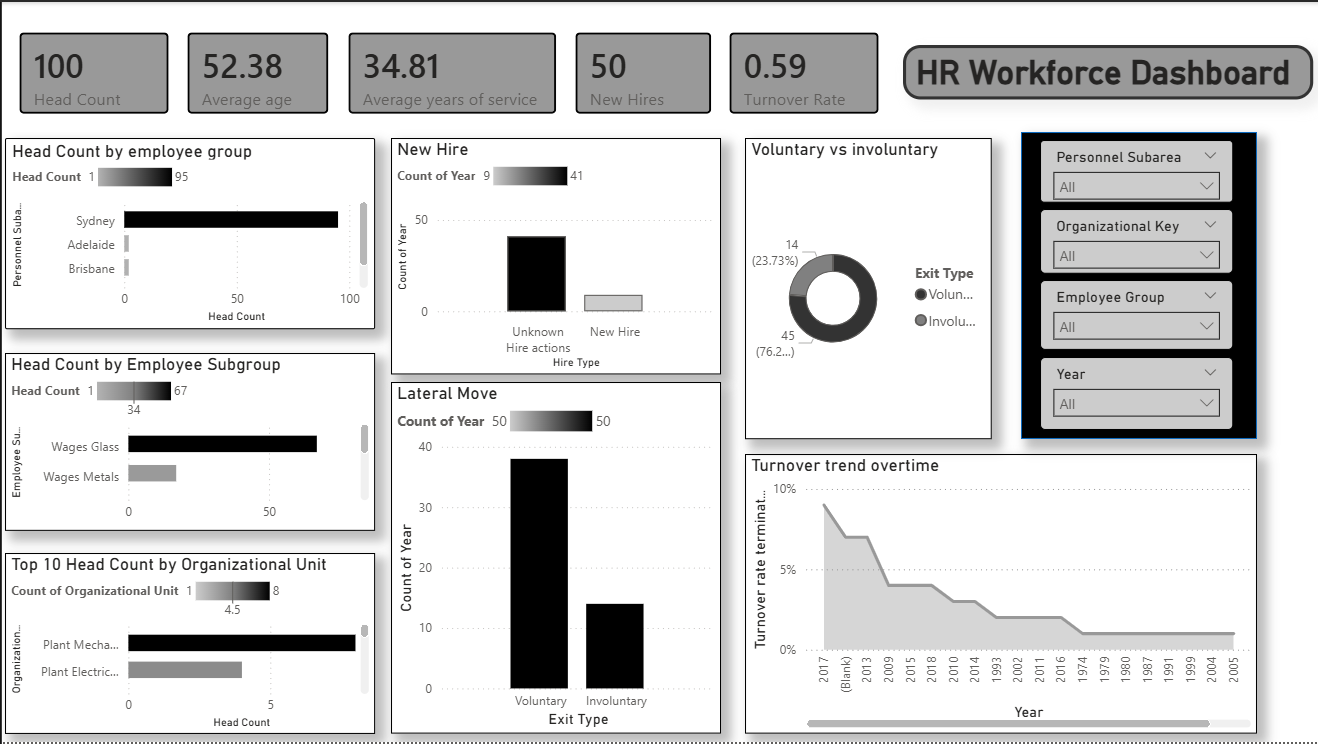

What the dashboard file says about the page in this screenshot:
{"tool":"powerbi","page":{"name":"Page 1","canvas":[1280,720],"ordinal":0},"visuals":[{"type":"lineChart","title":"Turnover trend overtime","fields":{"Category":["Terminations.Year"],"Y":["Terminations.Turnover rate termination"]},"box":[722.7,439.6,498,272.3],"z":500},{"type":"cardVisual","fields":{"Data":["Headcount.Average years of service"]},"box":[320,12.6,236.4,113.8],"z":1000},{"type":"shape","box":[991.1,126.4,229.5,298.6],"z":1500},{"type":"cardVisual","fields":{"Data":["Headcount.Average age"]},"box":[163.4,12.6,171.2,113.8],"z":2000},{"type":"cardVisual","fields":{"Data":["Headcount.New Hires"]},"box":[540.8,12.6,166.3,113.8],"z":3000},{"type":"cardVisual","fields":{"Data":["Headcount.Turnover Rate"]},"box":[690.6,12.6,179.9,113.8],"z":4000},{"type":"clusteredBarChart","title":"Head Count by employee group","fields":{"Y":["Headcount.Head Count"],"Category":["Headcount.Personnel Subarea"]},"box":[2.9,132.3,359.9,185.8],"z":5000},{"type":"clusteredBarChart","fields":{"Y":["Headcount.Head Count"],"Category":["Headcount.Employee Subgroup"]},"box":[2.9,341.4,359.9,173.1],"z":6000},{"type":"clusteredBarChart","title":"Top 10 Head Count by Organizational Unit","fields":{"Category":["Headcount.Organizational Unit"],"Y":["Headcount.Head Count"]},"box":[2.9,535.9,359.9,176],"z":7000},{"type":"slicer","fields":{"Values":["New Hires & Transfers.Personnel Subarea"]},"box":[1009.6,134.2,187.7,61.3],"z":8000},{"type":"columnChart","title":"New Hire","fields":{"Y":["CountNonNull(New Hires & Transfers.Year)"],"Category":["New Hires & Transfers.Hire Type"]},"box":[378.4,132.3,321,229.5],"z":9000},{"type":"slicer","fields":{"Values":["New Hires & Transfers.Organizational Key"]},"box":[1009.6,201.3,187.7,63.2],"z":10000},{"type":"columnChart","title":"Lateral Move","fields":{"Category":["Terminations.Exit Type"],"Y":["CountNonNull(Terminations.Year)"]},"box":[378.4,369.6,321,342.4],"z":11000},{"type":"donutChart","title":"Voluntary vs involuntary","fields":{"Y":["Headcount.Terminations Count"],"Category":["Terminations.Exit Type"]},"box":[722.7,132.3,240.2,292.8],"z":12000},{"type":"slicer","fields":{"Values":["New Hires & Transfers.Employee Group"]},"box":[1009.6,270.4,187.7,68.1],"z":15000},{"type":"slicer","fields":{"Values":["Terminations.Year"]},"box":[1009.6,345.3,187.7,71],"z":15500},{"type":"textbox","title":"HR Workforce Dashboard","box":[876.4,41.8,398.8,52.5],"z":16000},{"type":"cardVisual","fields":{"Data":["Headcount.Head Count"]},"box":[0,12.6,179.9,113.8],"z":17000}]}

Visuals, with their boxes in screenshot pixels (x1, y1, x2, y2), scaled from the page's 1280x720 canvas onto the 1318x744 screenshot:
"Turnover trend overtime" lineChart: (left=744, top=454, right=1257, bottom=736)
cardVisual - Headcount.Average years of service: (left=330, top=13, right=573, bottom=131)
shape: (left=1021, top=131, right=1257, bottom=439)
cardVisual - Headcount.Average age: (left=168, top=13, right=345, bottom=131)
cardVisual - Headcount.New Hires: (left=557, top=13, right=728, bottom=131)
cardVisual - Headcount.Turnover Rate: (left=711, top=13, right=896, bottom=131)
"Head Count by employee group" clusteredBarChart: (left=3, top=137, right=374, bottom=329)
clusteredBarChart - Headcount.Head Count x Headcount.Employee Subgroup: (left=3, top=353, right=374, bottom=532)
"Top 10 Head Count by Organizational Unit" clusteredBarChart: (left=3, top=554, right=374, bottom=736)
slicer - New Hires & Transfers.Personnel Subarea: (left=1040, top=139, right=1233, bottom=202)
"New Hire" columnChart: (left=390, top=137, right=720, bottom=374)
slicer - New Hires & Transfers.Organizational Key: (left=1040, top=208, right=1233, bottom=273)
"Lateral Move" columnChart: (left=390, top=382, right=720, bottom=736)
"Voluntary vs involuntary" donutChart: (left=744, top=137, right=991, bottom=439)
slicer - New Hires & Transfers.Employee Group: (left=1040, top=279, right=1233, bottom=350)
slicer - Terminations.Year: (left=1040, top=357, right=1233, bottom=430)
"HR Workforce Dashboard" textbox: (left=902, top=43, right=1313, bottom=97)
cardVisual - Headcount.Head Count: (left=0, top=13, right=185, bottom=131)
